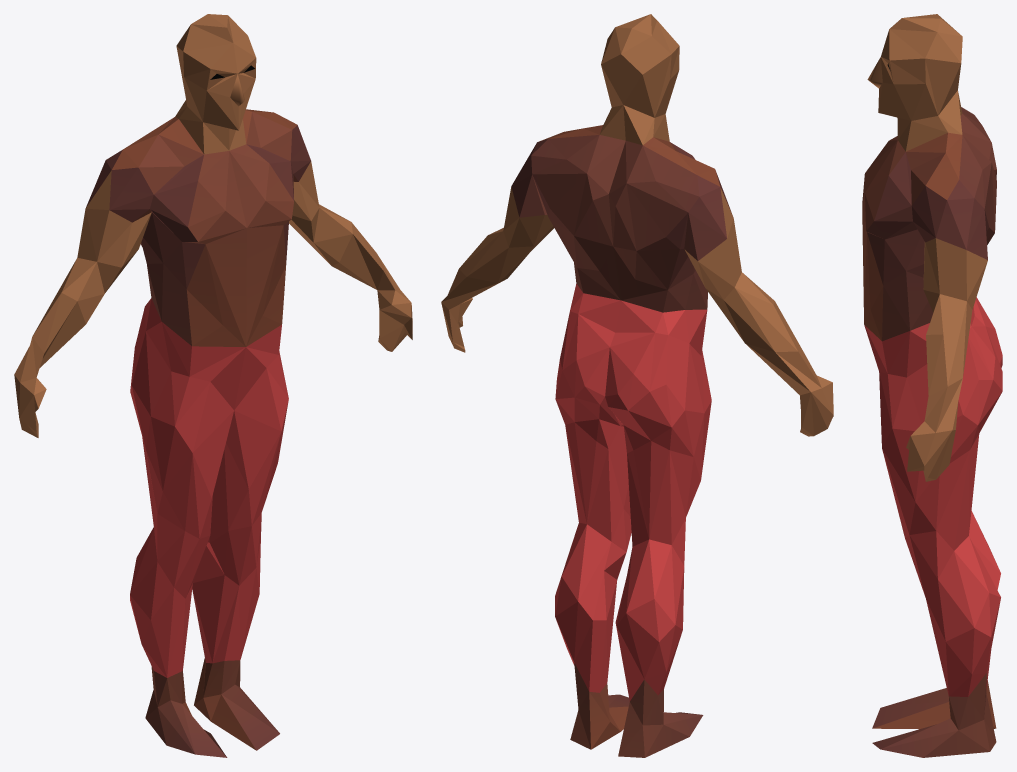
File: Player_Character_Test.glb
3 views of the same model, side by side, from view 1: azimuth 30°, elevation 25°; view 2: azimuth 150°, elevation 25°; view 3: azimuth 270°, elevation 25° (orthographic).
Parts seen in each view (by area): view 1: CharacterTest_Geo; view 2: CharacterTest_Geo; view 3: CharacterTest_Geo.
Part boxes in pixels (x1,y1,x2,y2): CharacterTest_Geo: (14, 14, 412, 757); CharacterTest_Geo: (441, 14, 833, 757); CharacterTest_Geo: (862, 14, 1002, 757).
Size of the model in its own units: 0.0437 by 0.0759 by 0.0135.
Materials: 1 (1 with a texture image).
